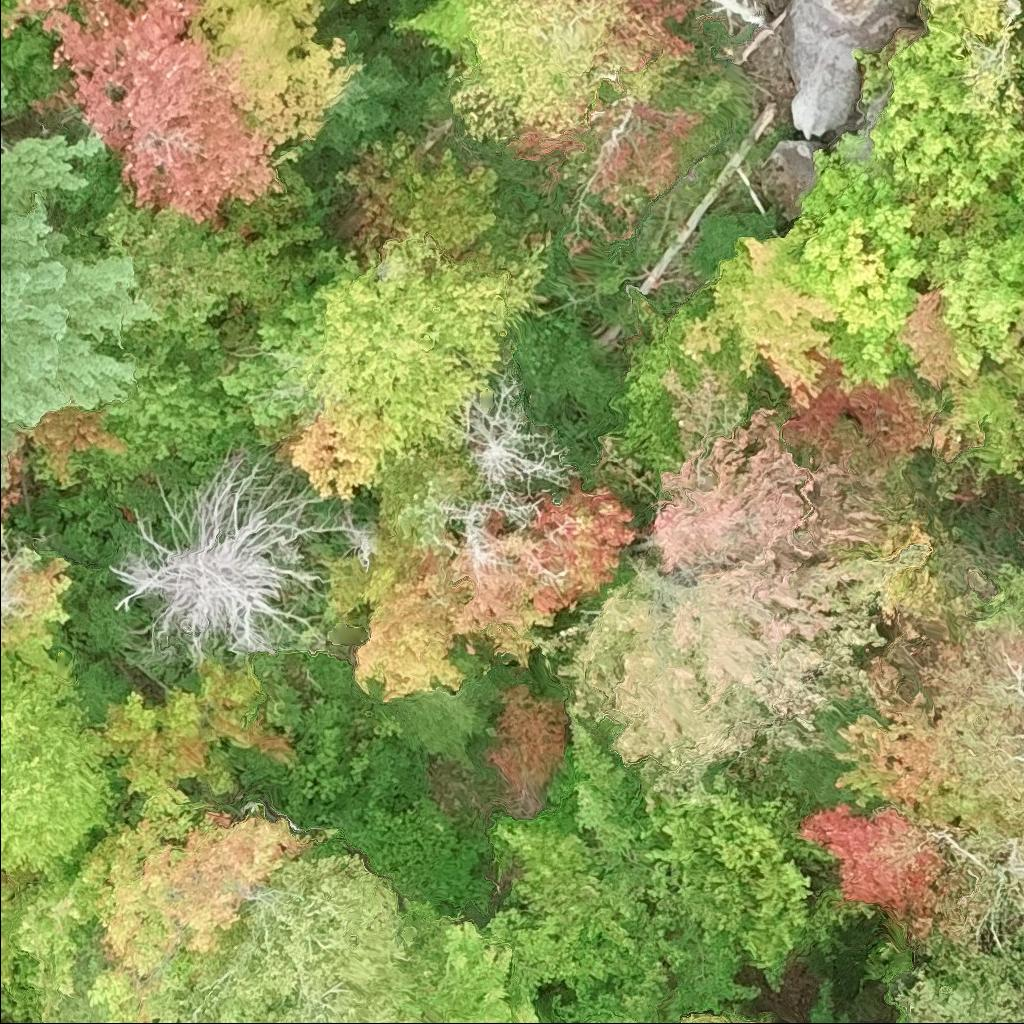crown: (688, 0, 1023, 395), (570, 414, 877, 774), (553, 719, 881, 1009), (6, 0, 282, 225), (42, 858, 415, 1023), (268, 232, 543, 455), (362, 488, 645, 703), (114, 447, 377, 674), (91, 794, 337, 1011), (0, 130, 166, 437), (28, 324, 290, 491), (491, 824, 677, 1012), (0, 637, 119, 886), (183, 0, 355, 168), (454, 0, 643, 149), (101, 661, 297, 798), (0, 836, 127, 1002), (407, 906, 541, 1023), (0, 521, 72, 652), (308, 56, 399, 154), (895, 962, 1023, 1023), (0, 0, 73, 106), (0, 432, 9, 492), (683, 1018, 764, 1023), (0, 84, 7, 109), (348, 0, 374, 5)
